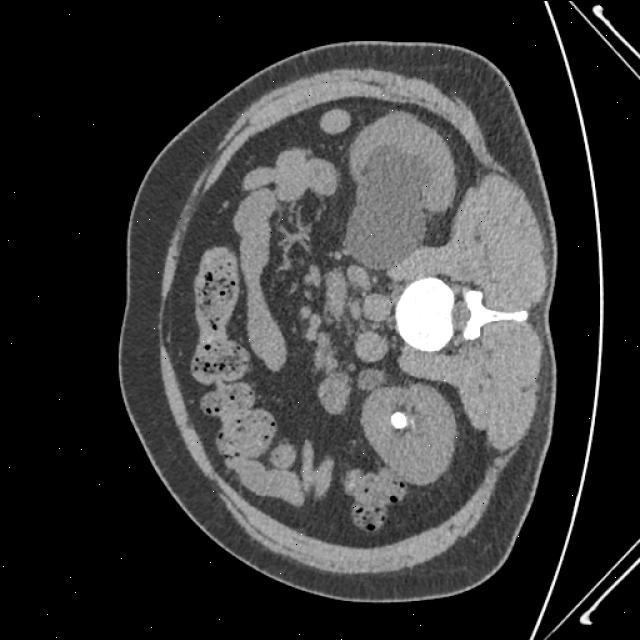kidneystone: (390, 411, 408, 429)
